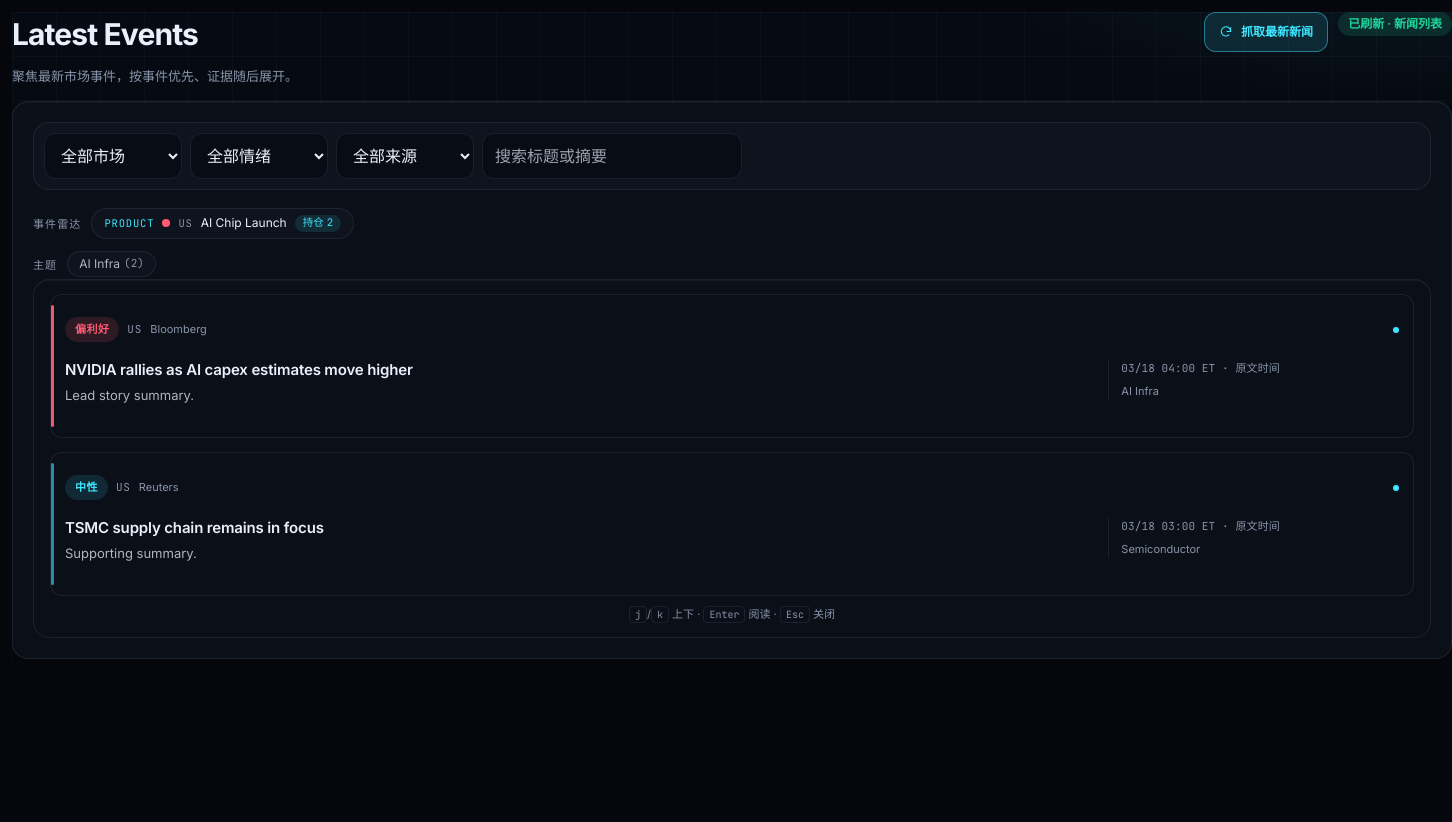
Test case: NewsFeedView › starts a manual news crawl from the page header and reports acceptance
This screenshot has width=1452, height=822.
Click the button "抓取最新新闻" at (1266,32), box x1=1204 y1=12 x2=1328 y2=52
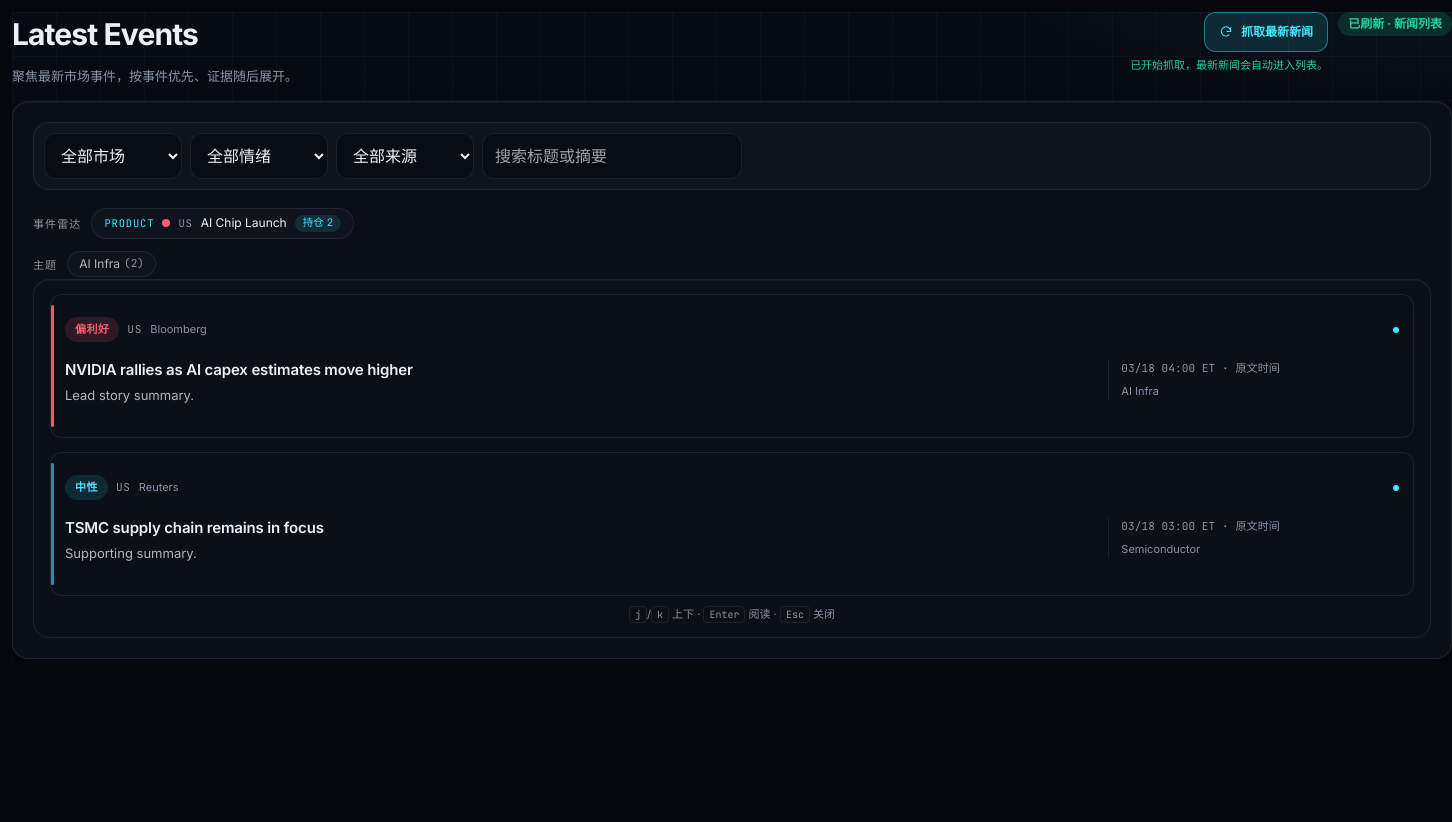
Now the text "已开始抓取，最新新闻会自动进入列表。" is shown, box x1=1130 y1=58 x2=1328 y2=73
